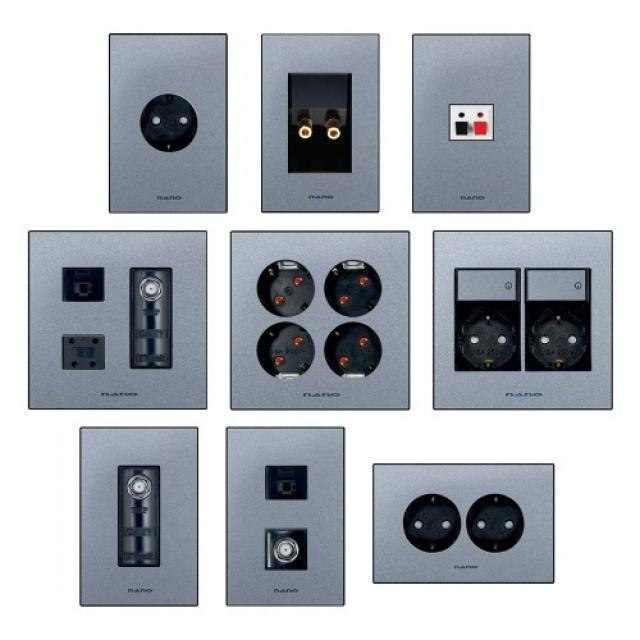typeb: (426, 220, 618, 414), (222, 228, 416, 412), (102, 23, 247, 220), (373, 458, 576, 594)
